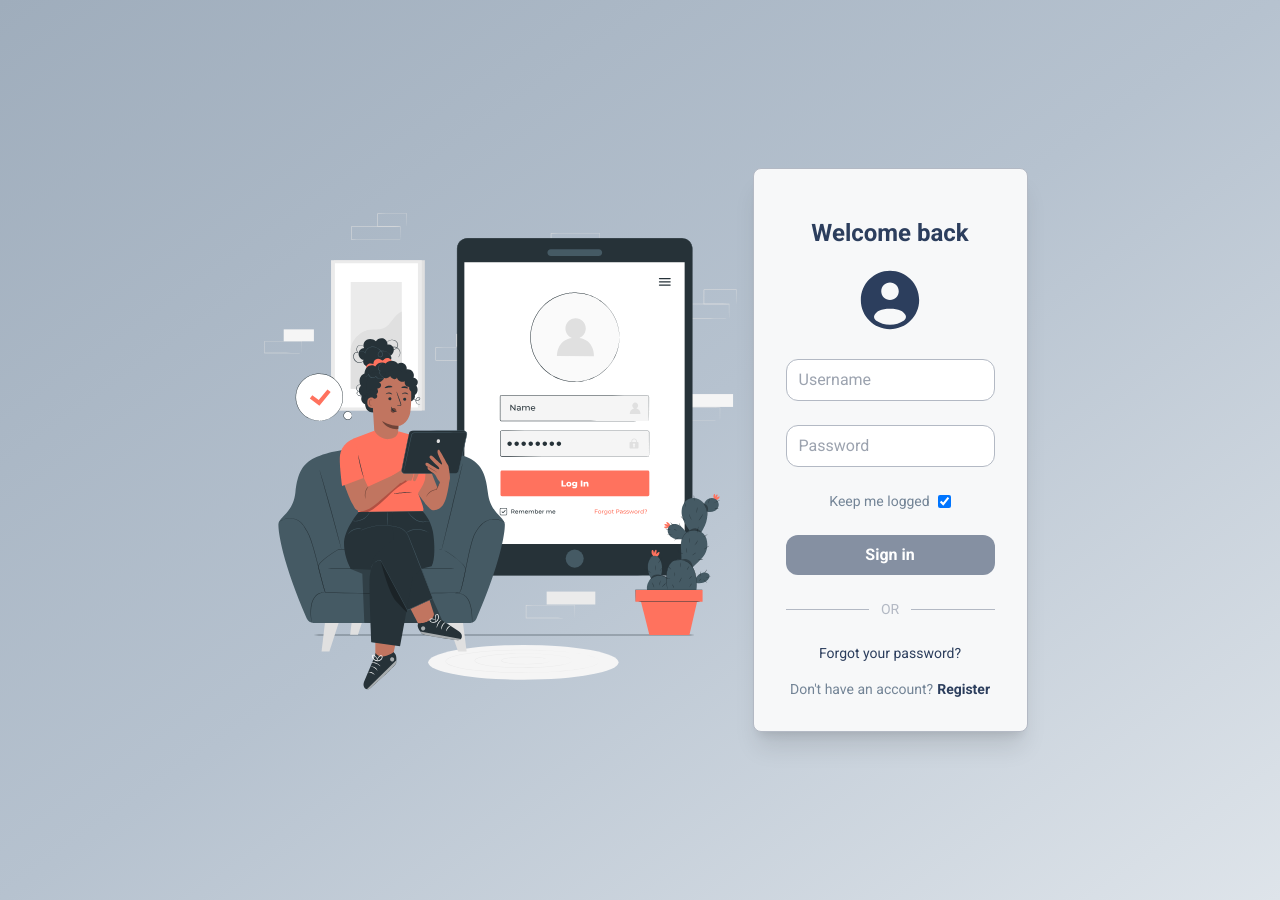
it: Testing Login page. › Renders modal password change.
Click the button "Forgot your password?". click: (890, 653)
box: [819, 643, 961, 663]
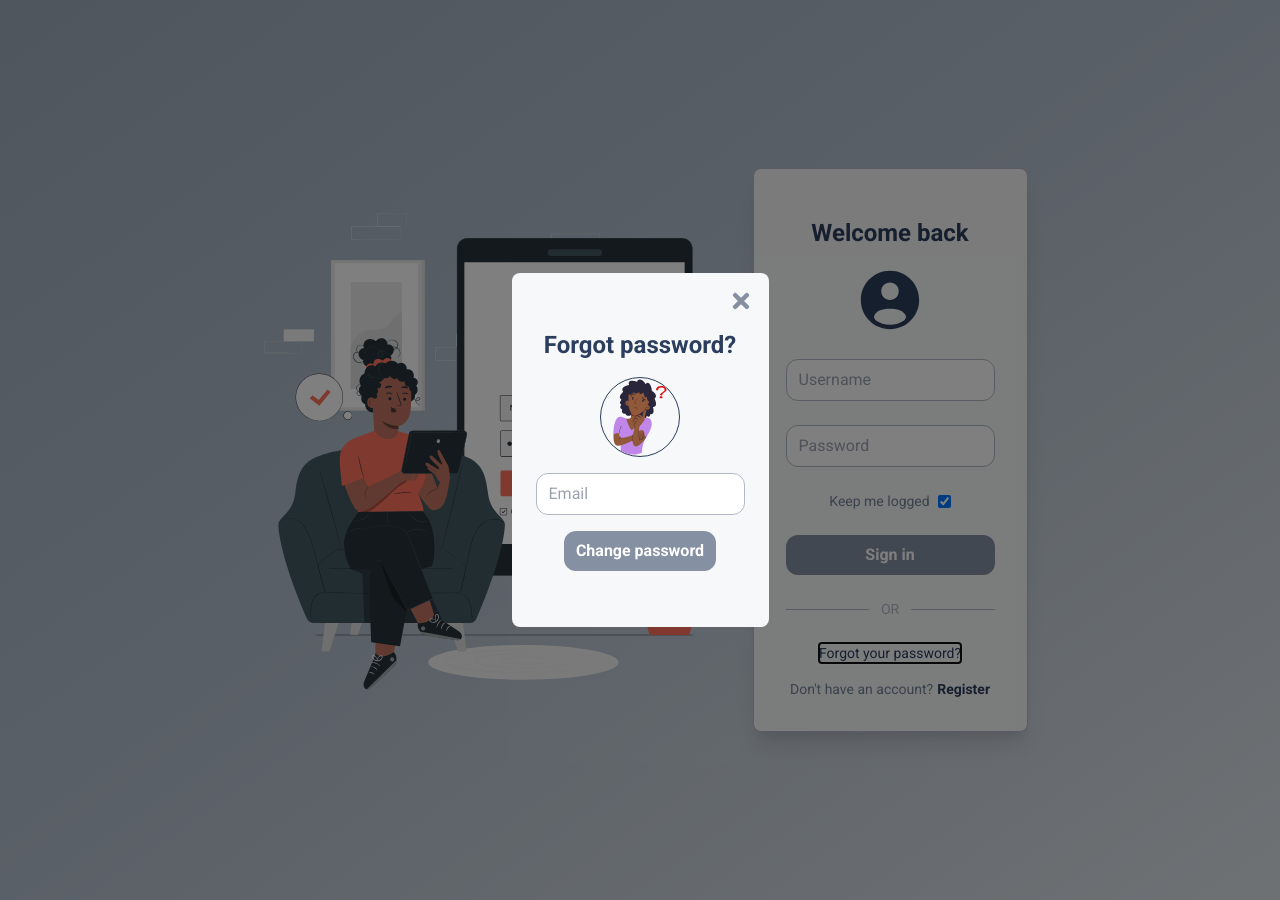
Expected: the button "Change password" is shown, [564, 531, 716, 571]
Expected: the button named "fechar modal" is shown
Expected: the field with placeholder "Email" is shown, [536, 473, 744, 515]
Click the button named "fechar modal". click: (740, 301)
box: [728, 289, 752, 313]
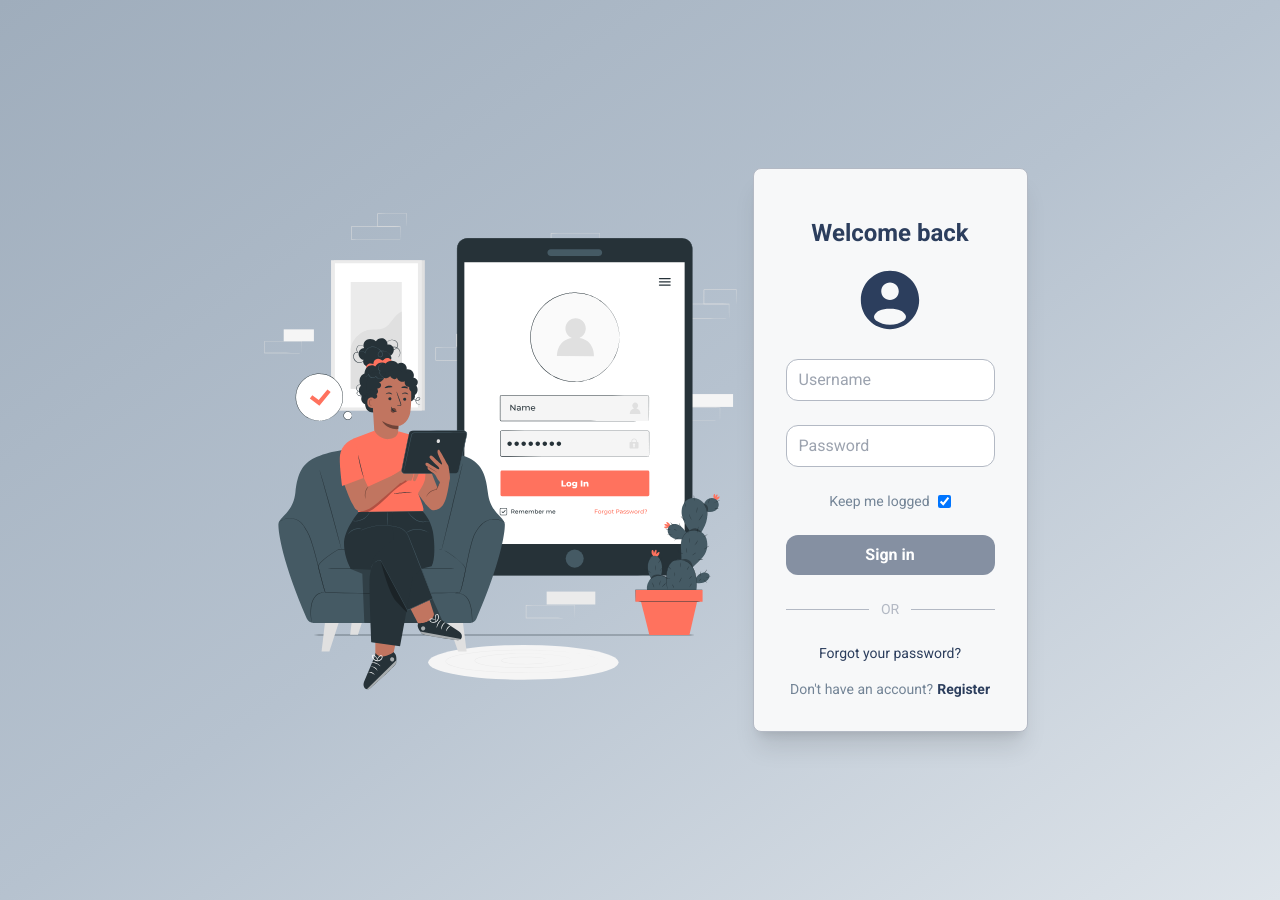
Expected: the button "Change password" is gone
